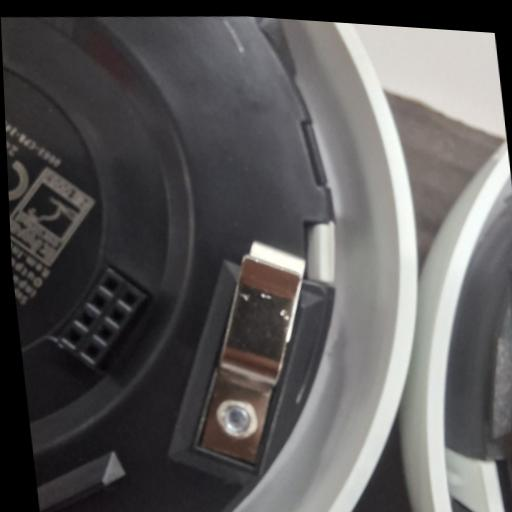yayli: (172, 232, 329, 476)
